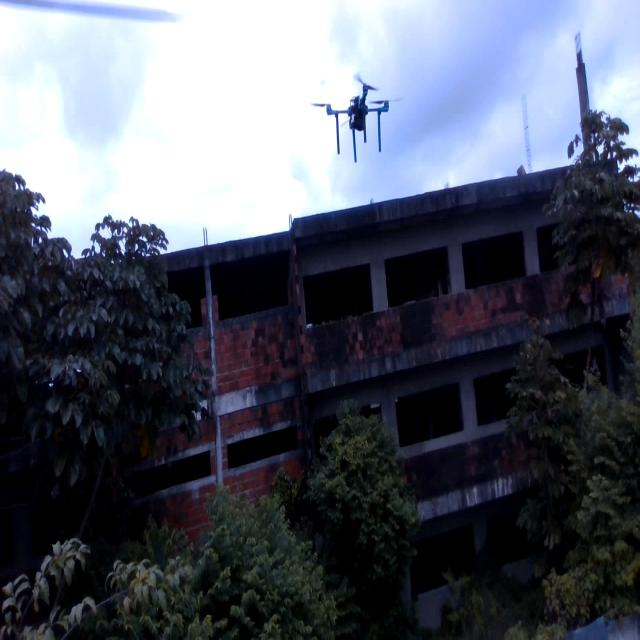-uav-: (310, 56, 401, 168)
